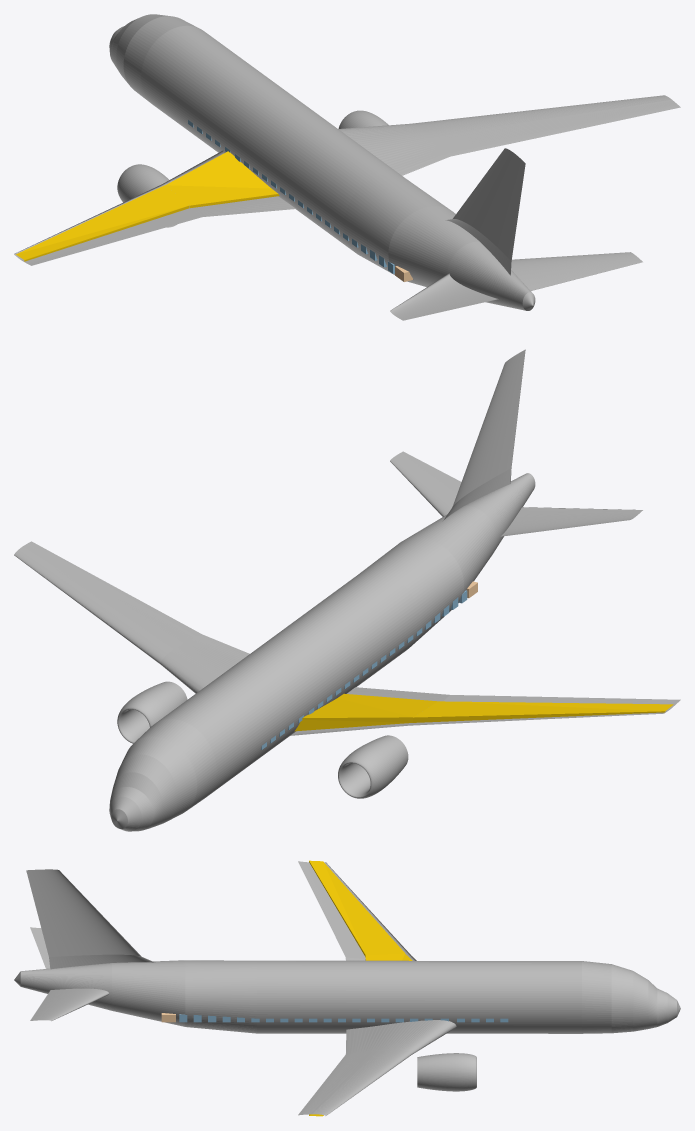
The picture shows the model from 3 angles, top to bottom: view 1: azimuth 30°, elevation 25°; view 2: azimuth 150°, elevation 25°; view 3: azimuth 270°, elevation 25°; orthographic projection. The views are drawn at different scales.
Parts seen in each view (by area): view 1: Renderer Node; view 2: Renderer Node; view 3: Renderer Node.
Part boxes in pixels (x1,y1,x2,y2): Renderer Node: (14,14,680,320); Renderer Node: (14,349,680,831); Renderer Node: (14,860,680,1116).
Bounding box in the file's own units: 33.87 × 10.96 × 37.57.
